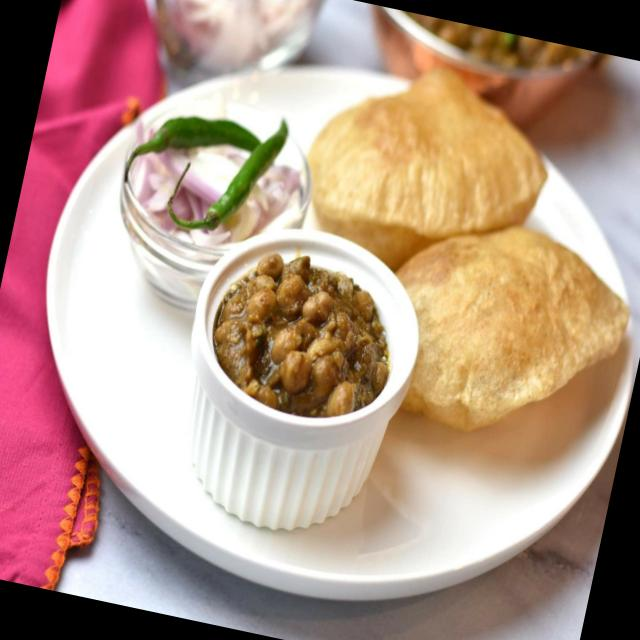Bhatura: (365, 204, 640, 458), (288, 46, 564, 298)
Chole: (200, 238, 410, 432)
